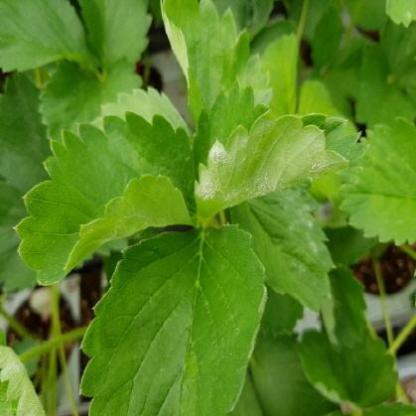Strawberry_Powdery_Mildew_Leaf: (191, 77, 372, 229), (228, 178, 336, 314), (160, 0, 273, 124), (0, 340, 47, 416)
